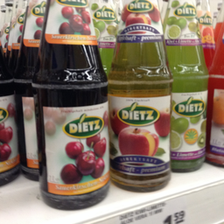juice: (31, 1, 109, 210), (107, 1, 173, 193), (161, 1, 208, 173)
